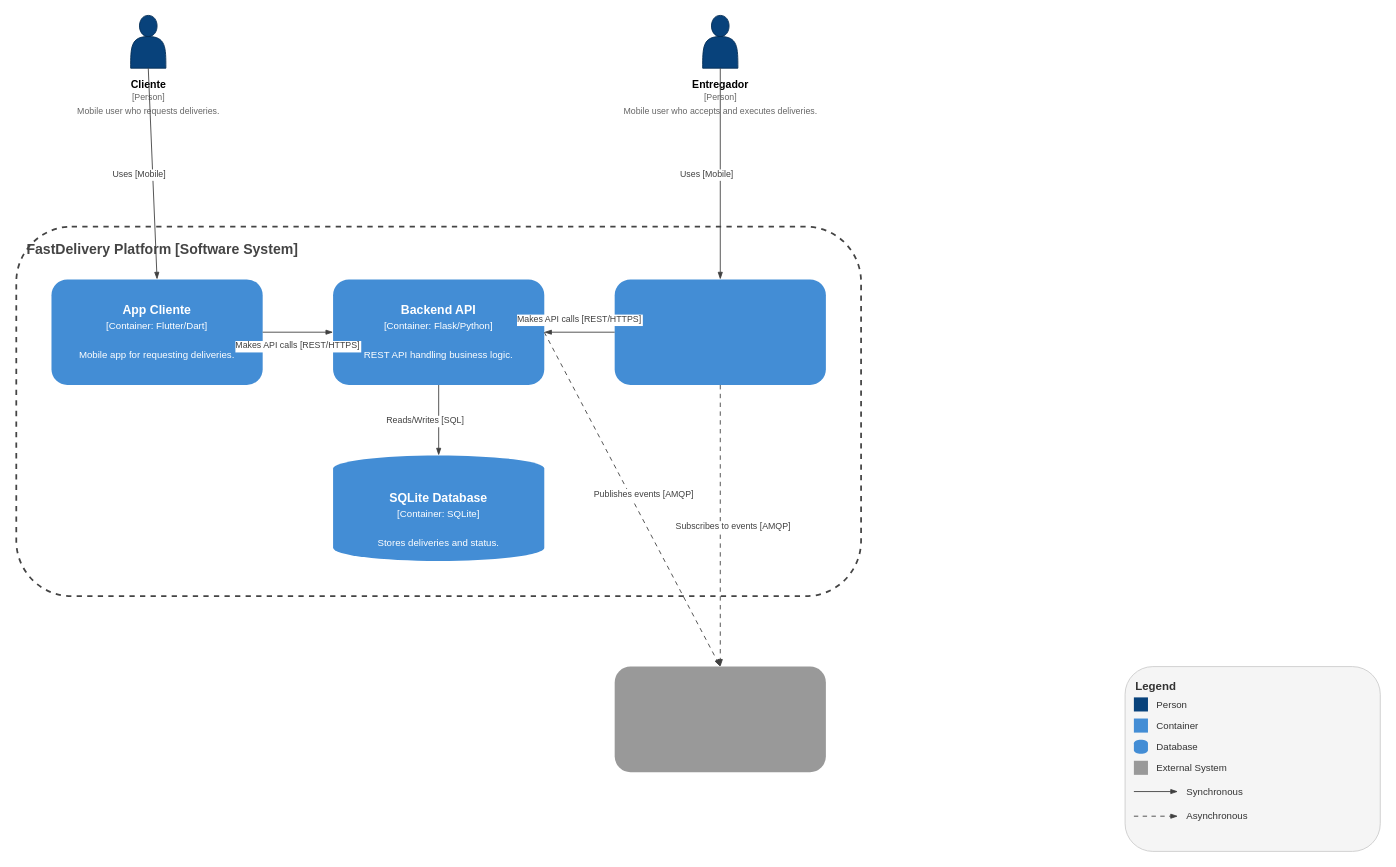
This 1396x867 diagram has some shape labels left out. Here are the shapes that lost their labels. From the top down, the centre of each, then its label:
(719,332): App Entregador [Container: Flutter/Dart] Mobile app for accepting deliveries.
(719,719): RabbitMQ / Redis [External System] Async event broker (Sprint 2 — future).
